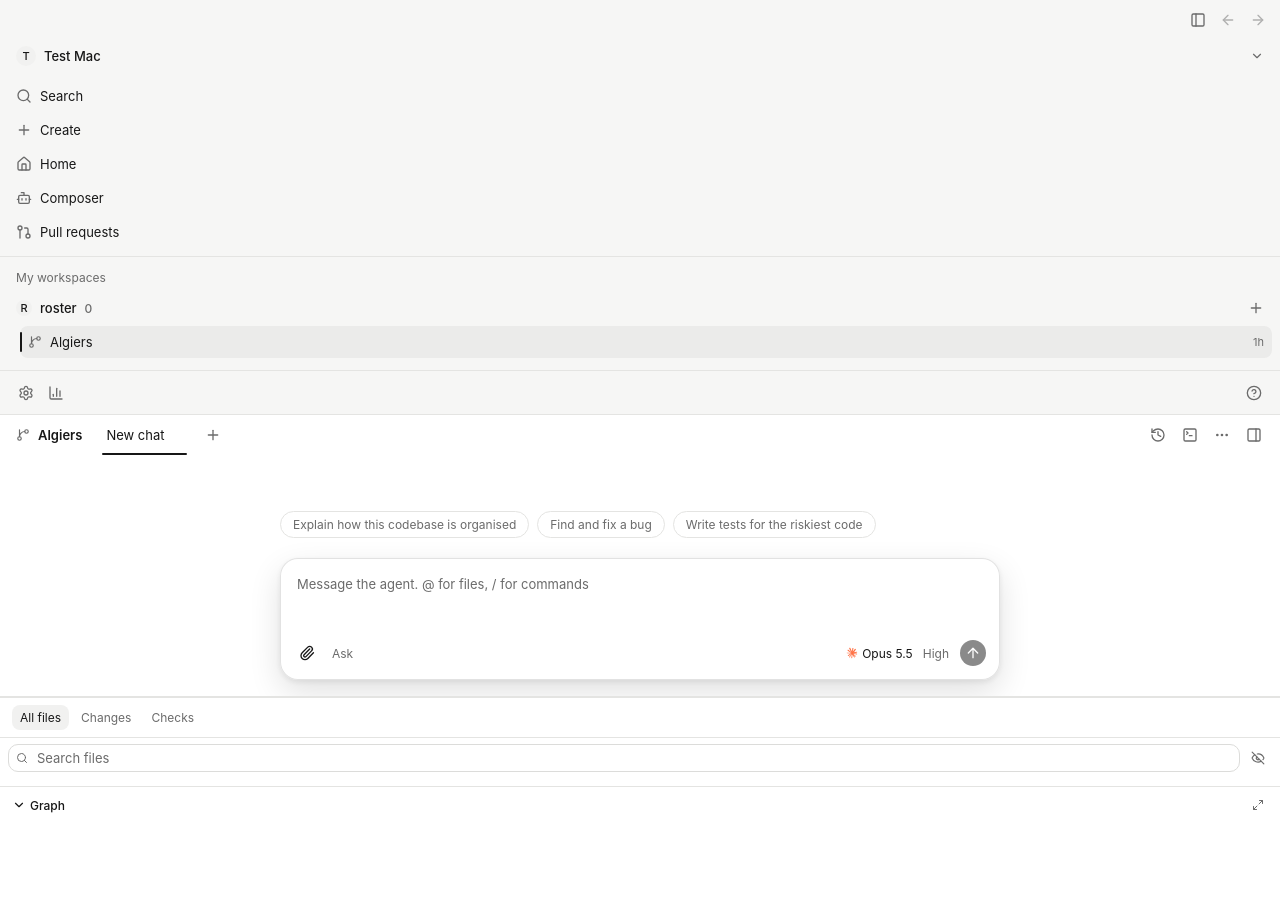
Scenario: changes › says so when there is nothing to show
Click the tab "Changes" at x=106, y=718, box [73,705,140,730]
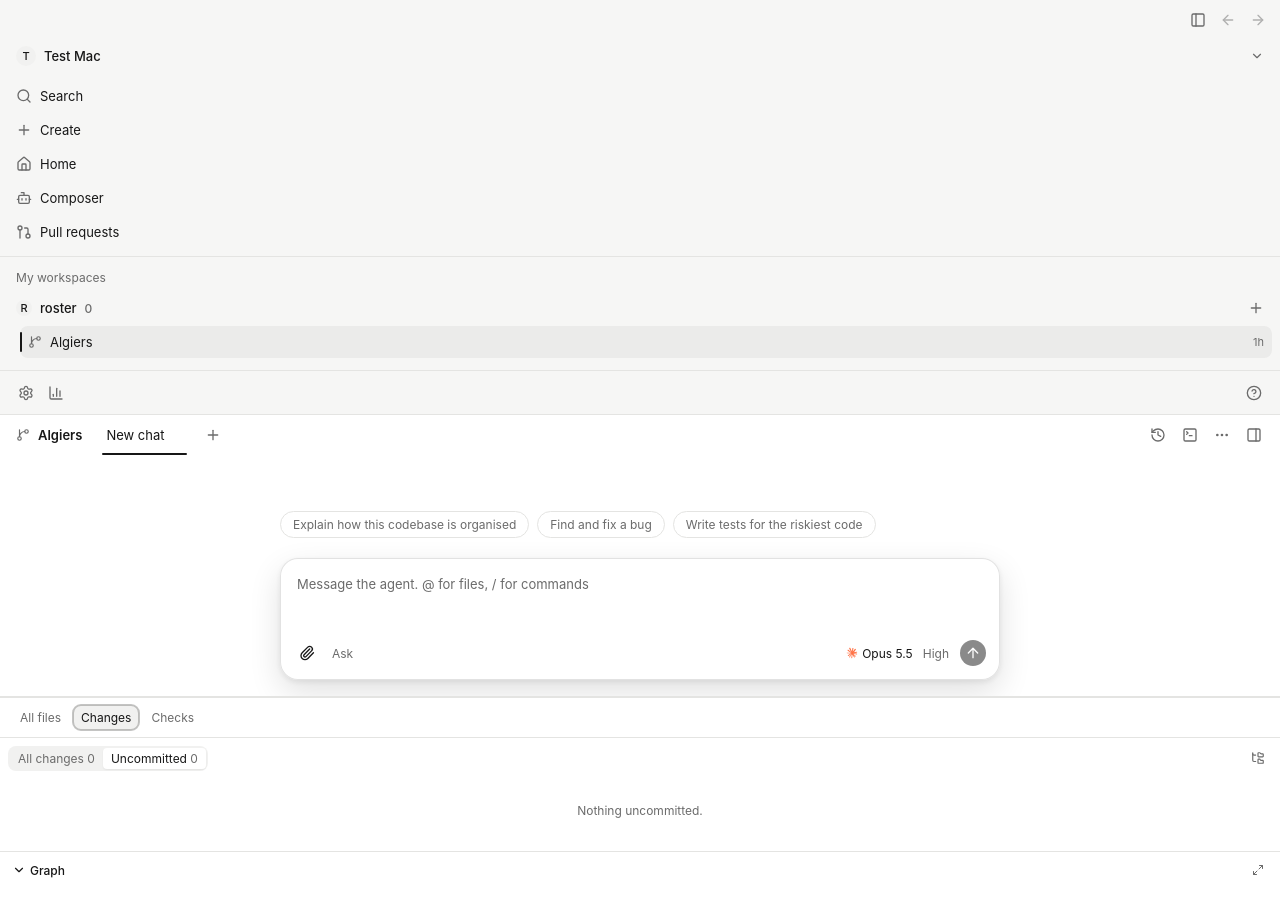
Click the button "All changes 0" at x=56, y=758, box [10,748,103,768]
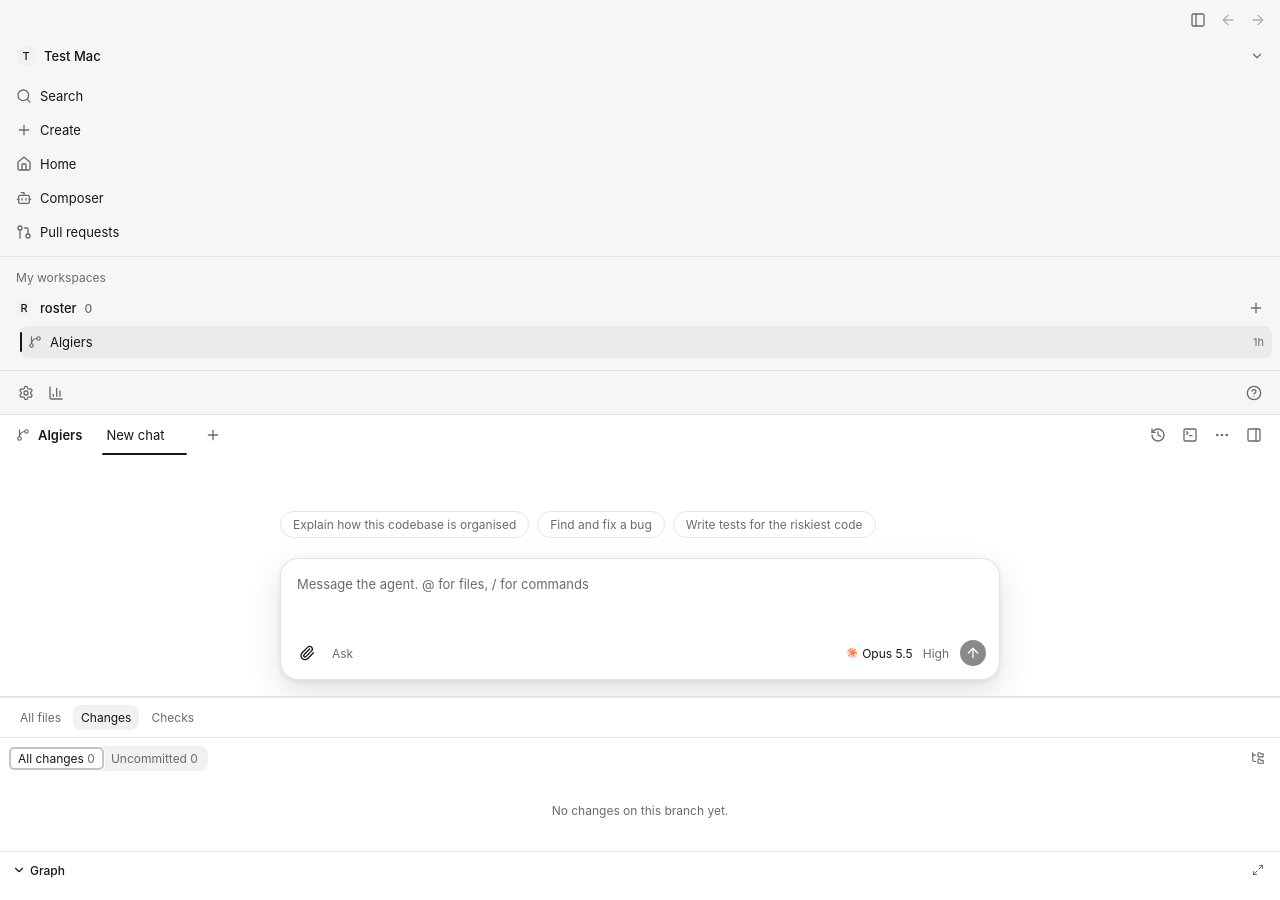
Check: the text "No changes on this branch yet." is shown, box [552,803,728,818]
